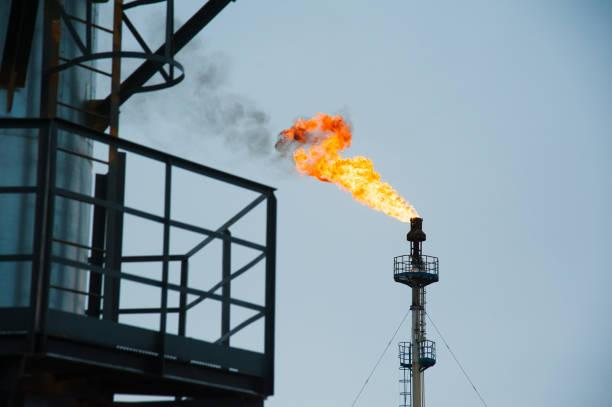Fire: (289, 102, 424, 221)
